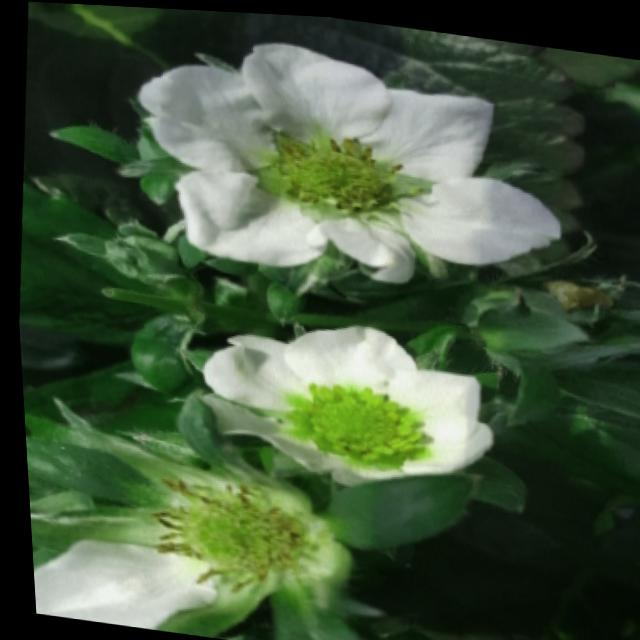Blossom Blight: (138, 467, 317, 598), (236, 115, 430, 223)
